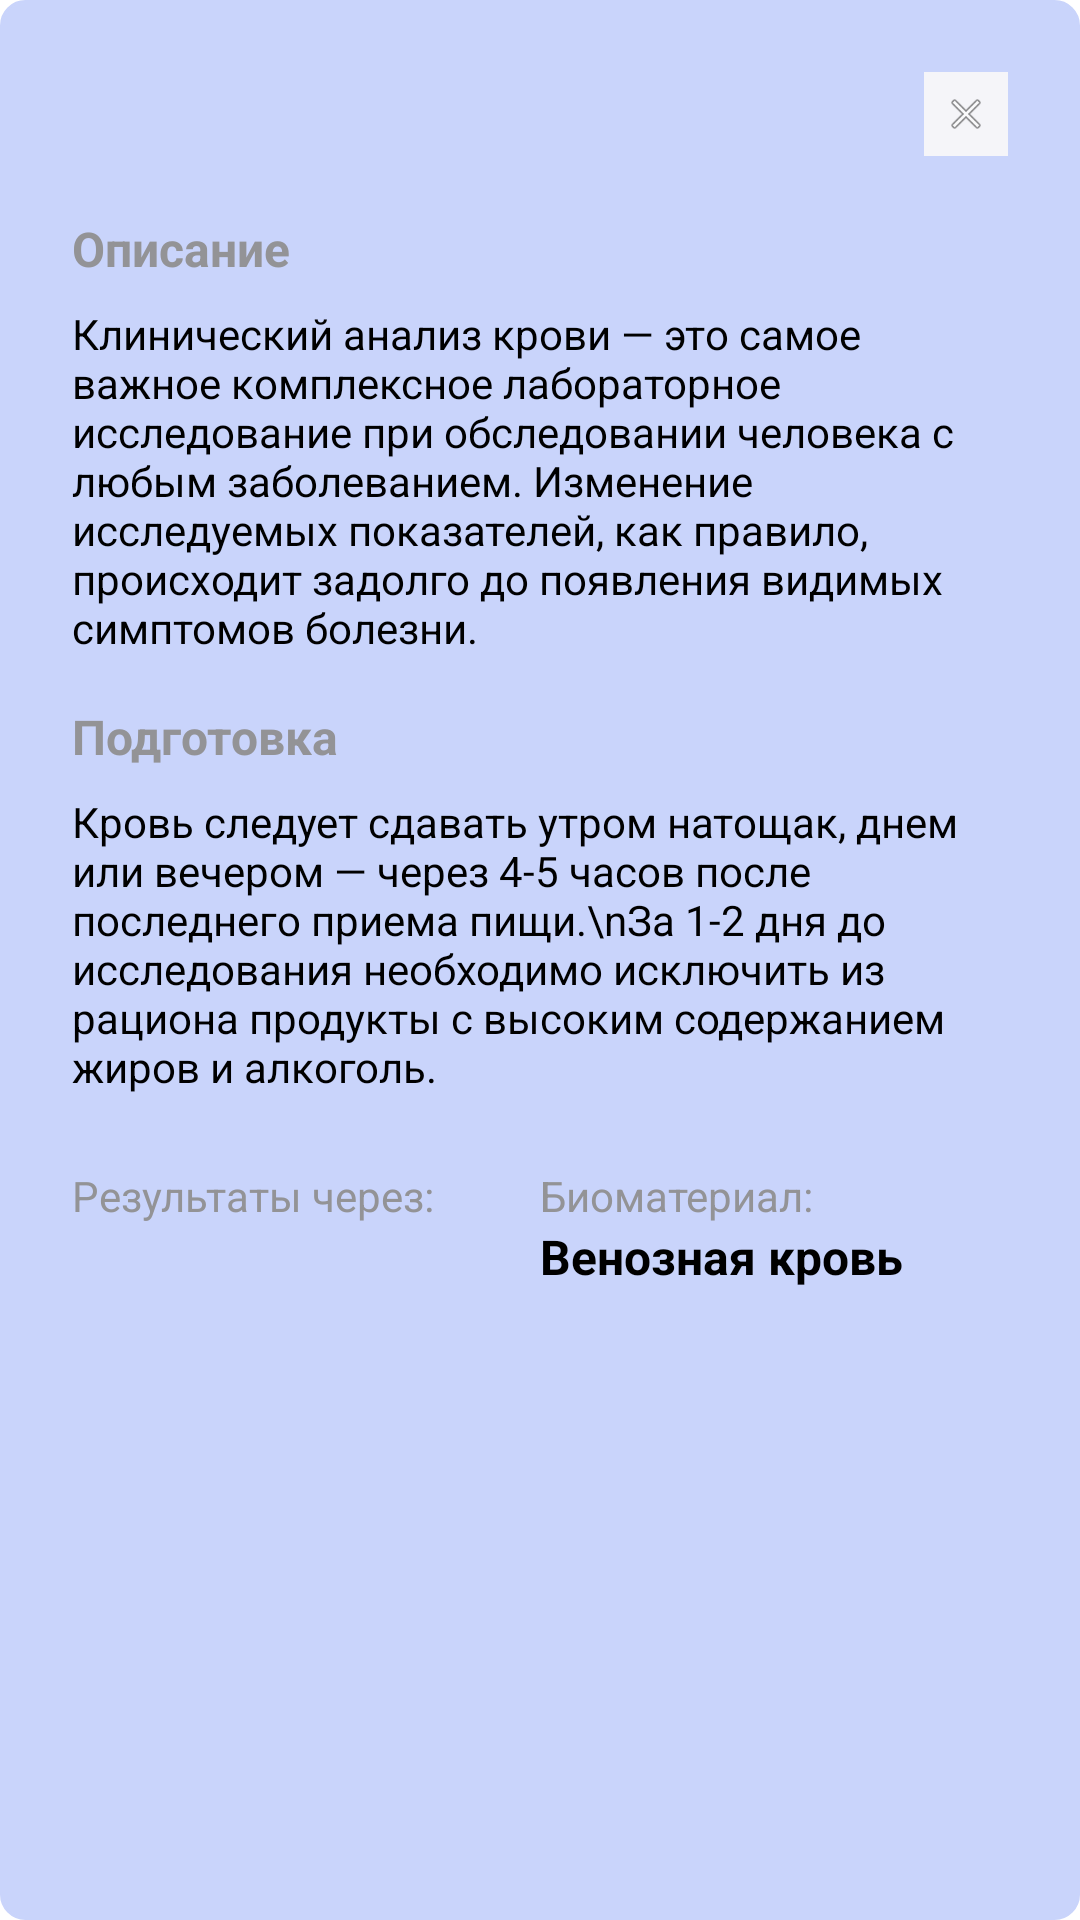

Named icons in this screenshot (1080*1920) and their bounding boxes, (x1, y1, x2, y2):
close clear cancel: (924, 72, 1008, 156)
